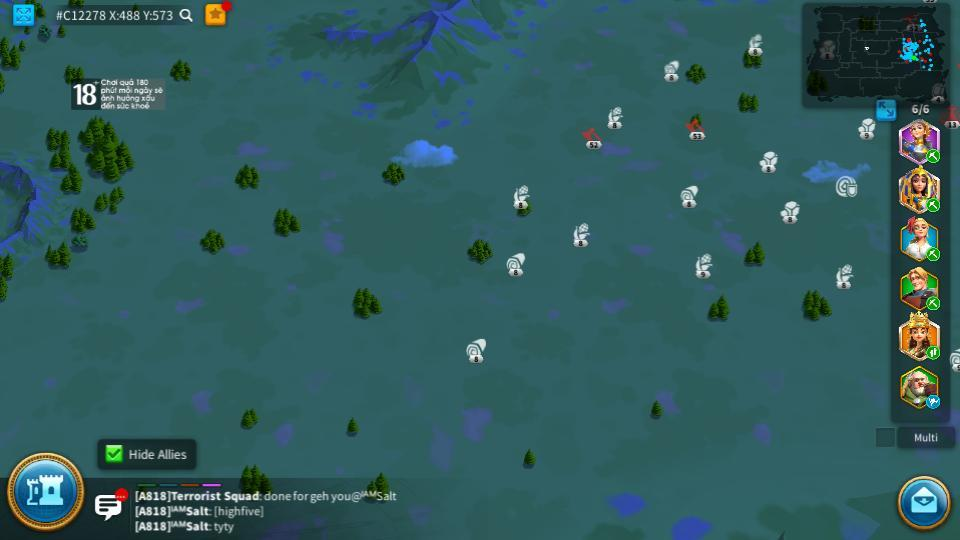march_idle: (925, 396, 942, 408)
march_marching: (925, 197, 941, 212), (926, 345, 941, 359), (925, 150, 941, 162), (925, 297, 942, 308), (925, 250, 941, 261)
